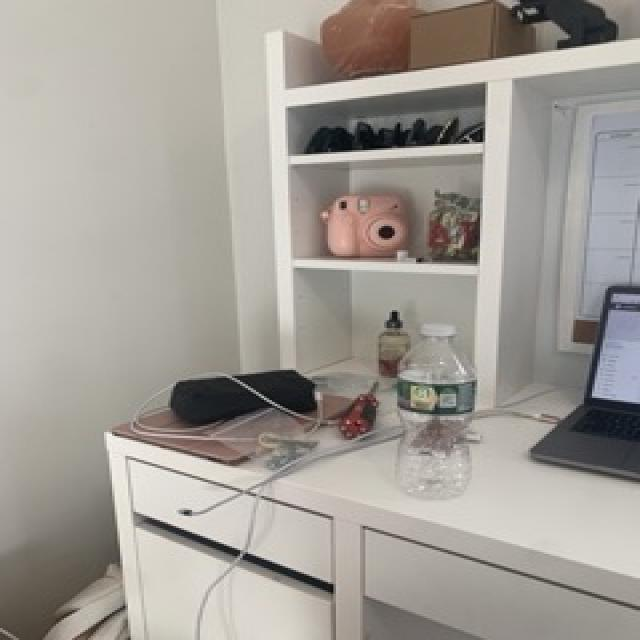water_bottle: (390, 321, 479, 504)
